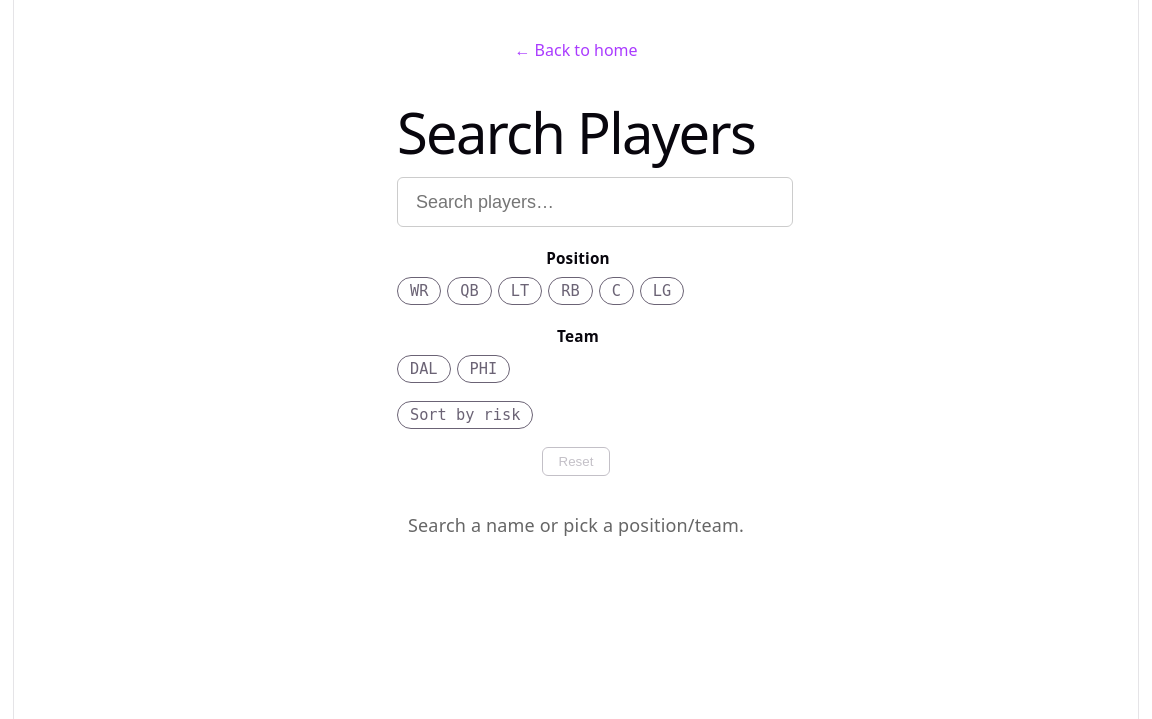
Scenario: a 2-character query shows matching players after Enter, last-name matches first
The image size is (1152, 719).
Type "la" into the dropdown named "Search players by name". click: point(595, 202)
box: 397,177 -> 793,227
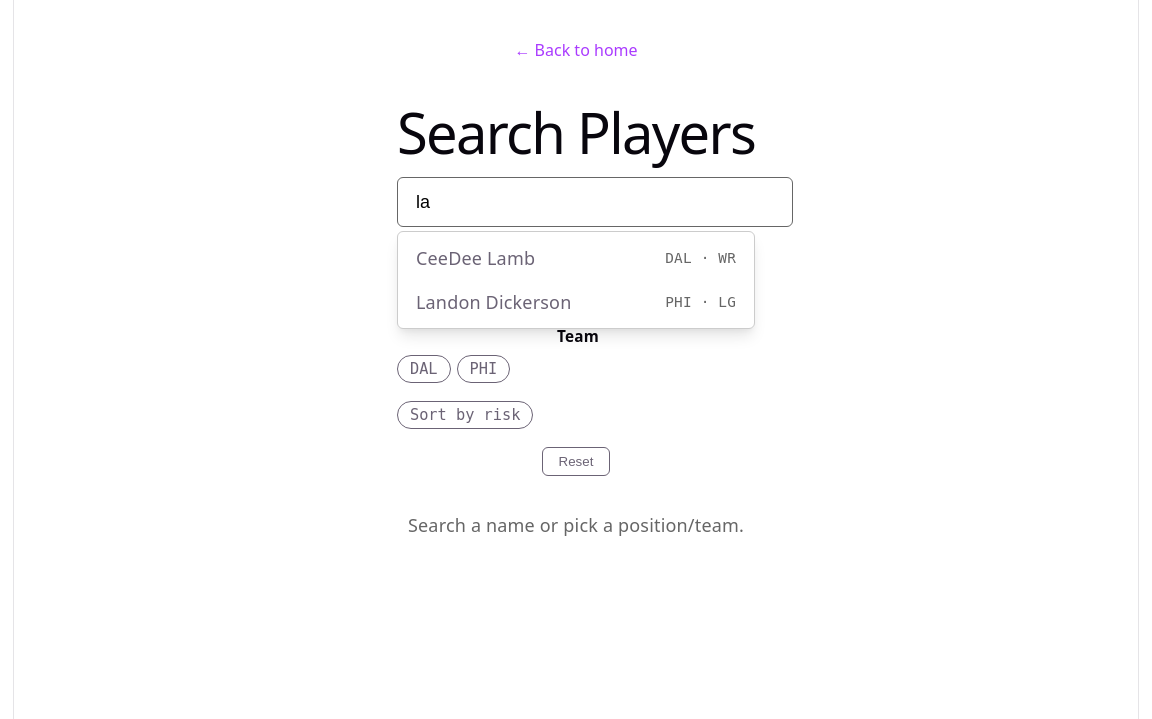
Press Enter
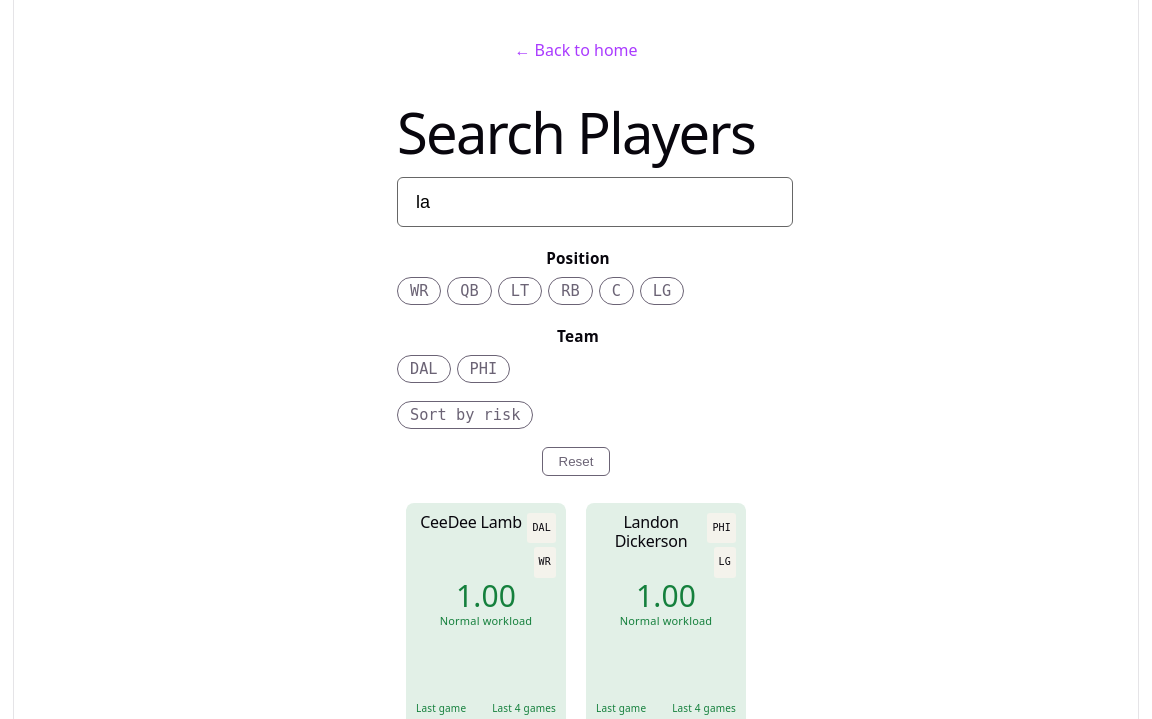
Check: the text "Search a name or pick a position/team." is gone
